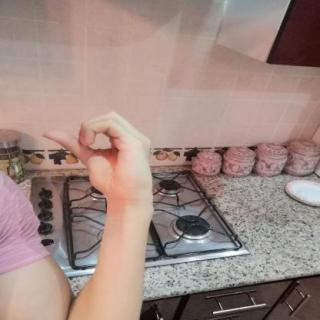WAW: (30, 105, 163, 210)
